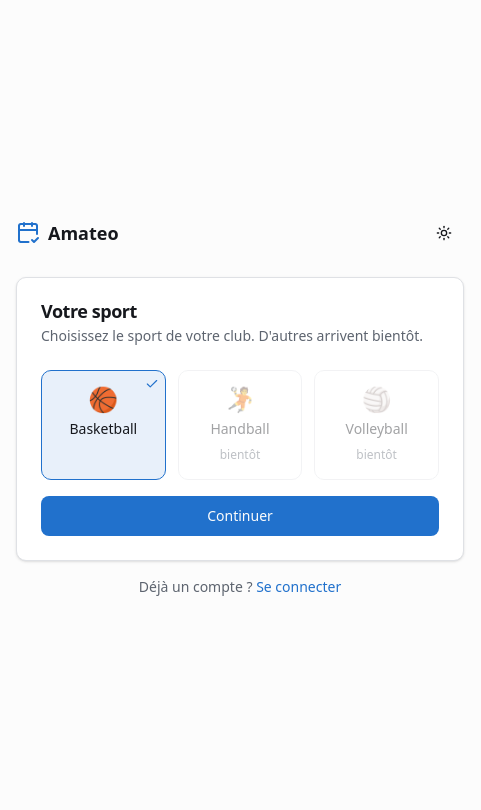
Test: RegisterPage › renders the club registration fields (incl. ARA) after the sport step
The width and height of the screenshot is (481, 810).
Click the button "Continuer": (240, 516) [41, 496, 439, 536]
(page scrolled)
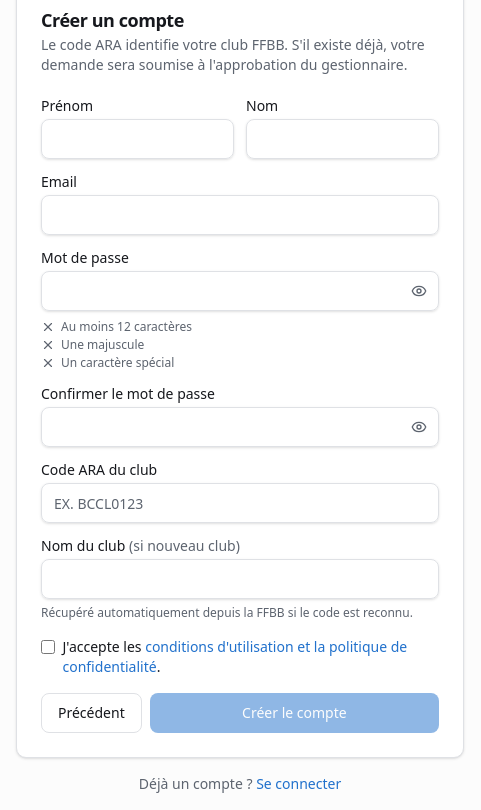
Expected: the field labelled "Prénom" is shown, [41, 119, 234, 159]
Expected: the field labelled "Nom" is shown, [246, 119, 439, 159]
Expected: the field labelled "Email" is shown, [41, 195, 439, 235]
